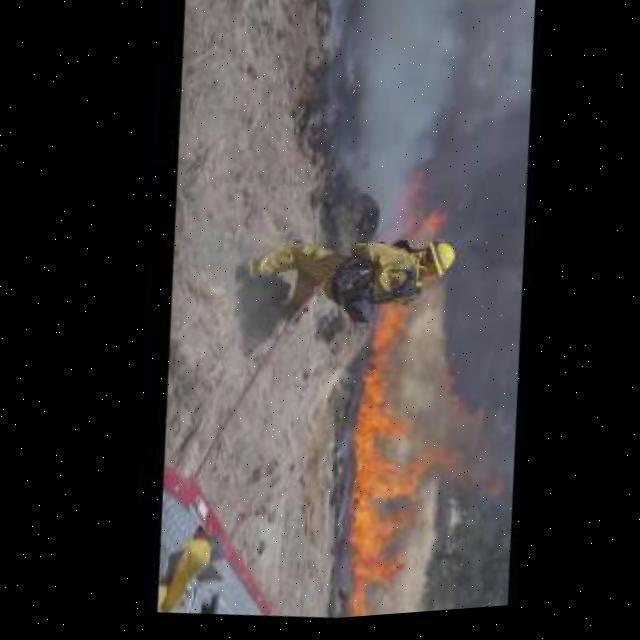fire: (307, 297, 478, 623)
